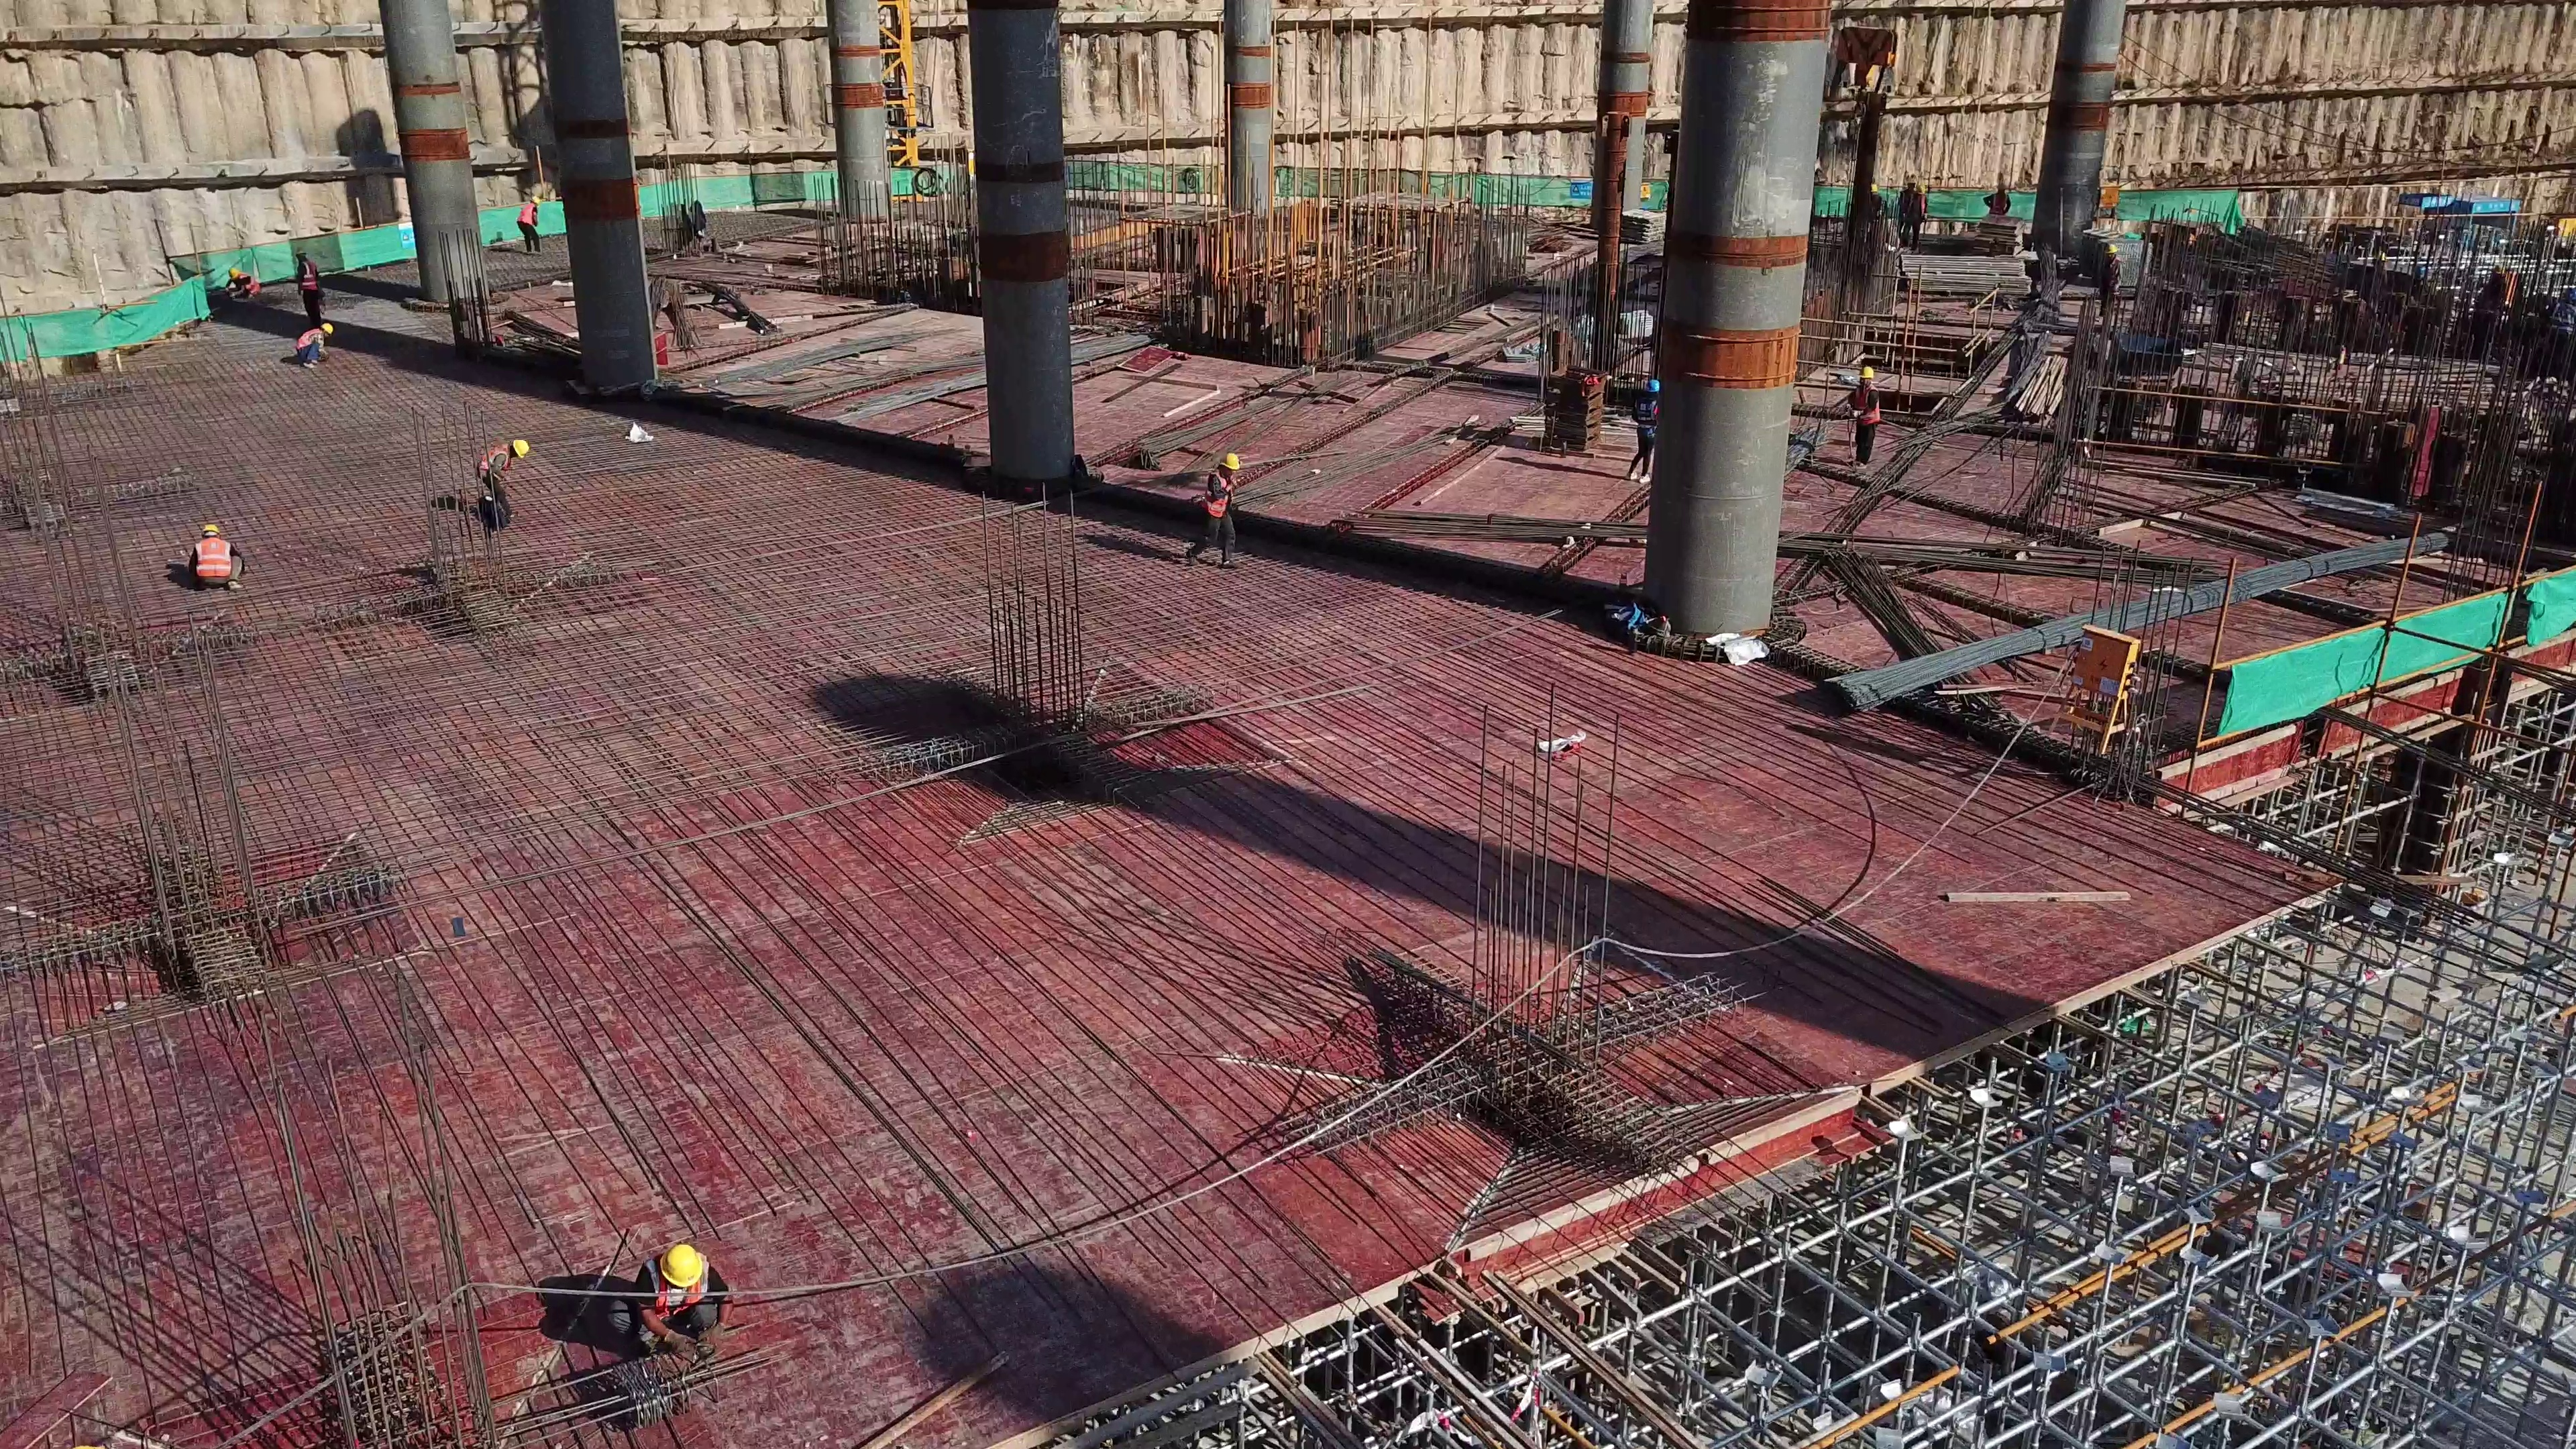helmet: (658, 1240, 706, 1289), (1860, 365, 1880, 382), (1216, 453, 1238, 470), (201, 522, 221, 534), (511, 437, 526, 455), (1646, 374, 1658, 390), (529, 195, 539, 205), (321, 321, 331, 331), (2105, 245, 2114, 253), (230, 267, 237, 277), (1918, 185, 1923, 193)
person: (608, 1242, 731, 1359), (1184, 453, 1241, 568), (477, 439, 529, 520), (188, 525, 245, 590), (1847, 366, 1880, 468), (1627, 378, 1656, 484), (294, 248, 325, 323), (295, 321, 332, 367), (517, 196, 543, 254), (2098, 244, 2120, 315), (1907, 183, 1925, 246), (225, 268, 259, 297), (1899, 175, 1914, 234), (1984, 183, 2013, 215)
vest: (653, 1273, 704, 1314), (195, 539, 233, 577), (1206, 470, 1234, 519), (1856, 386, 1880, 425), (481, 442, 513, 472), (1634, 394, 1656, 433), (299, 260, 317, 290), (1991, 193, 2010, 219), (240, 272, 260, 295), (517, 203, 534, 227), (299, 329, 319, 349)
